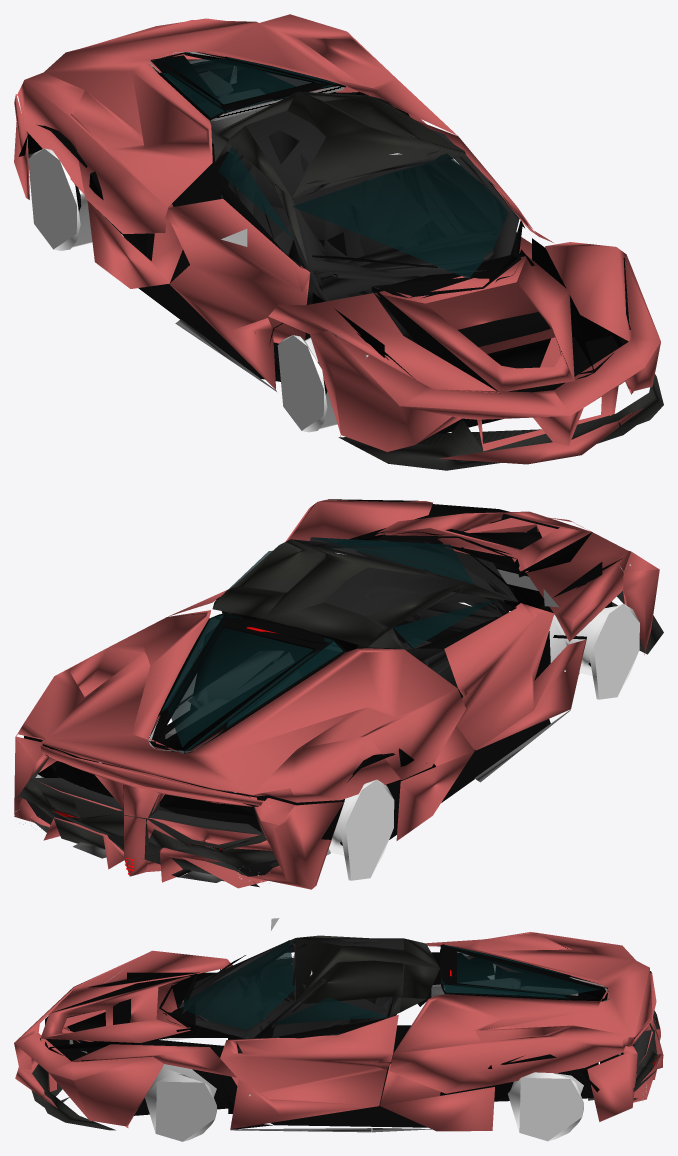
The model's file is laferrari.glb.
3 views of the same model, one above another, from view 1: azimuth 30°, elevation 25°; view 2: azimuth 150°, elevation 25°; view 3: azimuth 270°, elevation 25° (orthographic). The views are drawn at different scales.
Parts seen in each view (by area): view 1: LaFerrari_Body_0_6, LaFerrari_Carbon fiber_0_5, LaFerrari_Glasses_0_29, LaFerrari_Material.009_0_45, LaFerrari_Interior 2.001_0_46, LaFerrari_black_0_4, LaFerrari_Logos_0_9, tire 3_rim.003_0_86, tire 1_rim.001_0_70, LaFerrari_Viper_0_13, LaFerrari_under carreage_0_17, LaFerrari_Disk_0_7 (+1 smaller); view 2: LaFerrari_Body_0_6, LaFerrari_Carbon fiber_0_5, LaFerrari_Glasses_0_29, LaFerrari_Logos_0_9, LaFerrari_black_0_4, tire 1_rim.001_0_70, LaFerrari_Material.009_0_45, tire 3_rim.003_0_86, LaFerrari_Disk_0_7, LaFerrari_Interior 2.001_0_46, LaFerrari_wireframe_color_0xE056560_0_22, LaFerrari_Viper_0_13 (+1 smaller); view 3: LaFerrari_Body_0_6, LaFerrari_Carbon fiber_0_5, LaFerrari_Glasses_0_29, LaFerrari_Logos_0_9, LaFerrari_Material.009_0_45, LaFerrari_black_0_4, tire 2_rim.002_0_78, tire 4_rim.004_0_94, LaFerrari_Interior 2.001_0_46, LaFerrari_Viper_0_13, LaFerrari_Disk_0_7, LaFerrari_under carreage_0_17 (+1 smaller).
Part boxes in pixels (<box>): LaFerrari_Body_0_6: <box>14,14,660,464</box>; LaFerrari_Carbon fiber_0_5: <box>26,61,663,470</box>; LaFerrari_Glasses_0_29: <box>150,57,519,278</box>; LaFerrari_Material.009_0_45: <box>221,137,516,337</box>; LaFerrari_Interior 2.001_0_46: <box>221,107,519,300</box>; LaFerrari_black_0_4: <box>18,80,628,433</box>; LaFerrari_Logos_0_9: <box>138,51,506,381</box>; tire 3_rim.003_0_86: <box>28,148,120,250</box>; tire 1_rim.001_0_70: <box>277,335,337,432</box>; LaFerrari_Viper_0_13: <box>36,88,524,346</box>; LaFerrari_under carreage_0_17: <box>182,156,601,357</box>; LaFerrari_Disk_0_7: <box>175,71,276,391</box>; LaFerrari_Body_0_6: <box>14,499,659,889</box>; LaFerrari_Carbon fiber_0_5: <box>18,539,663,887</box>; LaFerrari_Glasses_0_29: <box>161,537,496,753</box>; LaFerrari_Logos_0_9: <box>129,595,550,839</box>; LaFerrari_black_0_4: <box>24,504,622,839</box>; tire 1_rim.001_0_70: <box>549,603,639,699</box>; LaFerrari_Material.009_0_45: <box>222,539,517,697</box>; tire 3_rim.003_0_86: <box>326,779,394,880</box>; LaFerrari_Disk_0_7: <box>73,531,570,882</box>; LaFerrari_Interior 2.001_0_46: <box>222,538,517,673</box>; LaFerrari_wireframe_color_0xE056560_0_22: <box>34,738,259,824</box>; LaFerrari_Viper_0_13: <box>42,534,586,802</box>; LaFerrari_Body_0_6: <box>14,932,663,1131</box>; LaFerrari_Carbon fiber_0_5: <box>31,935,659,1130</box>; LaFerrari_Glasses_0_29: <box>177,940,606,1037</box>; LaFerrari_Logos_0_9: <box>131,944,610,1127</box>; LaFerrari_Material.009_0_45: <box>181,939,397,1053</box>; LaFerrari_black_0_4: <box>45,952,618,1100</box>; tire 2_rim.002_0_78: <box>144,1064,216,1141</box>; tire 4_rim.004_0_94: <box>508,1072,583,1141</box>; LaFerrari_Interior 2.001_0_46: <box>184,938,391,1050</box>; LaFerrari_Viper_0_13: <box>159,950,650,1100</box>; LaFerrari_Disk_0_7: <box>69,978,620,1132</box>; LaFerrari_under carreage_0_17: <box>127,972,598,1101</box>.
Size of the model in its own units: 1.93 by 1 by 4.48.
Materials: 23 (6 with a texture image).
